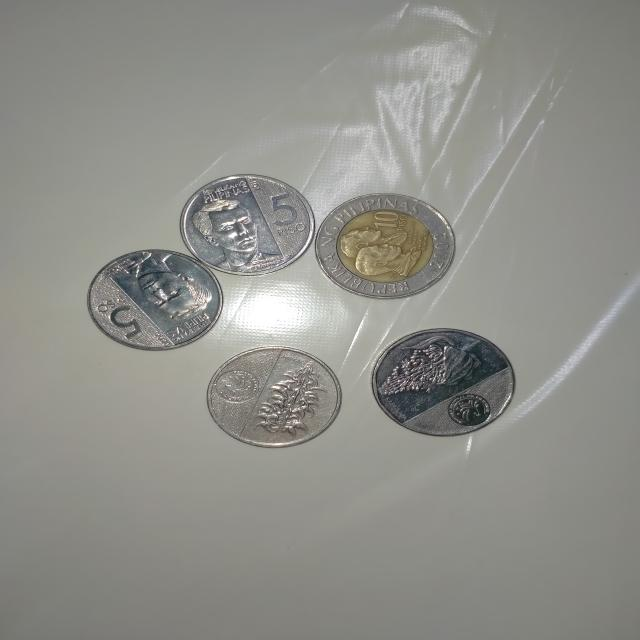10_New_Back: (380, 329, 502, 432)
10_Old_Front: (326, 202, 440, 292)
5_New_Front: (187, 177, 315, 269), (90, 254, 214, 342)
